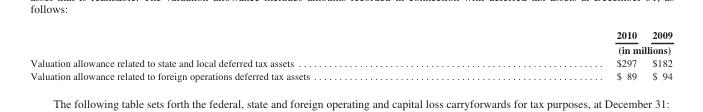table: (29, 28, 671, 81)
table column: (29, 28, 462, 81), (462, 28, 643, 81), (643, 28, 671, 81)
table column header: (29, 28, 671, 56)
table row: (29, 28, 671, 42), (29, 42, 671, 56), (29, 56, 671, 69), (29, 69, 671, 81)
table spanning cell: (462, 42, 671, 56)
